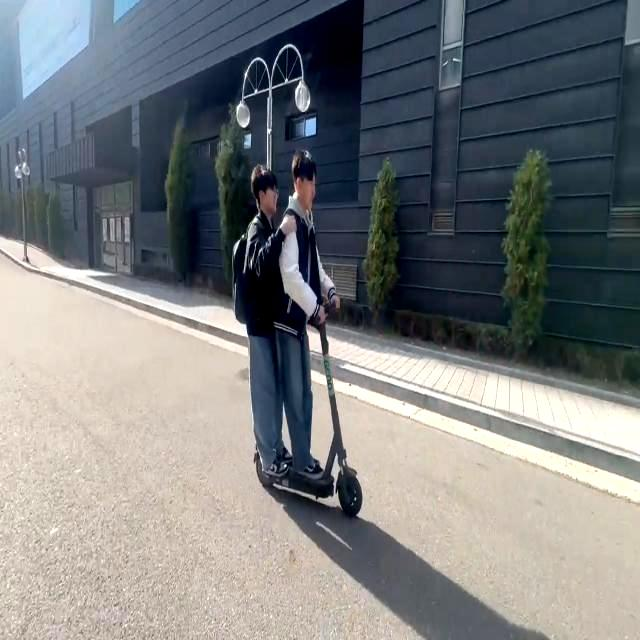bare_head: (284, 148, 325, 211), (247, 160, 282, 219)
human: (271, 146, 335, 482), (227, 160, 293, 480)
kickboard: (239, 436, 374, 524)
